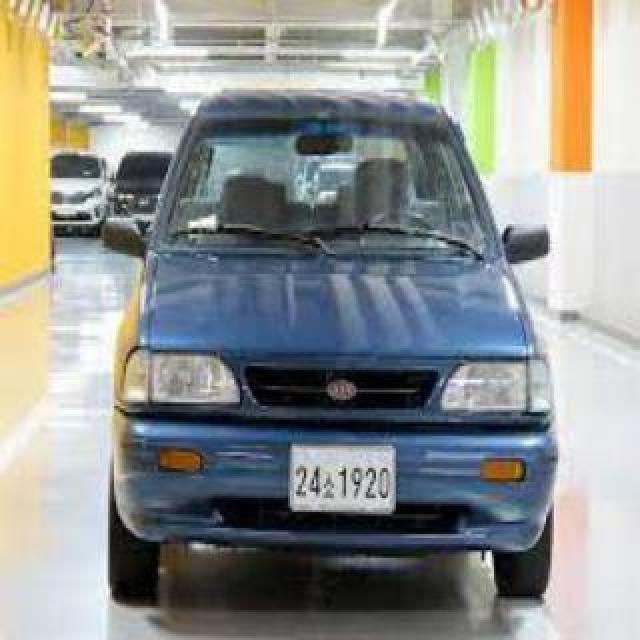car: (102, 90, 572, 615)
illegal_plate: (286, 442, 396, 522)
